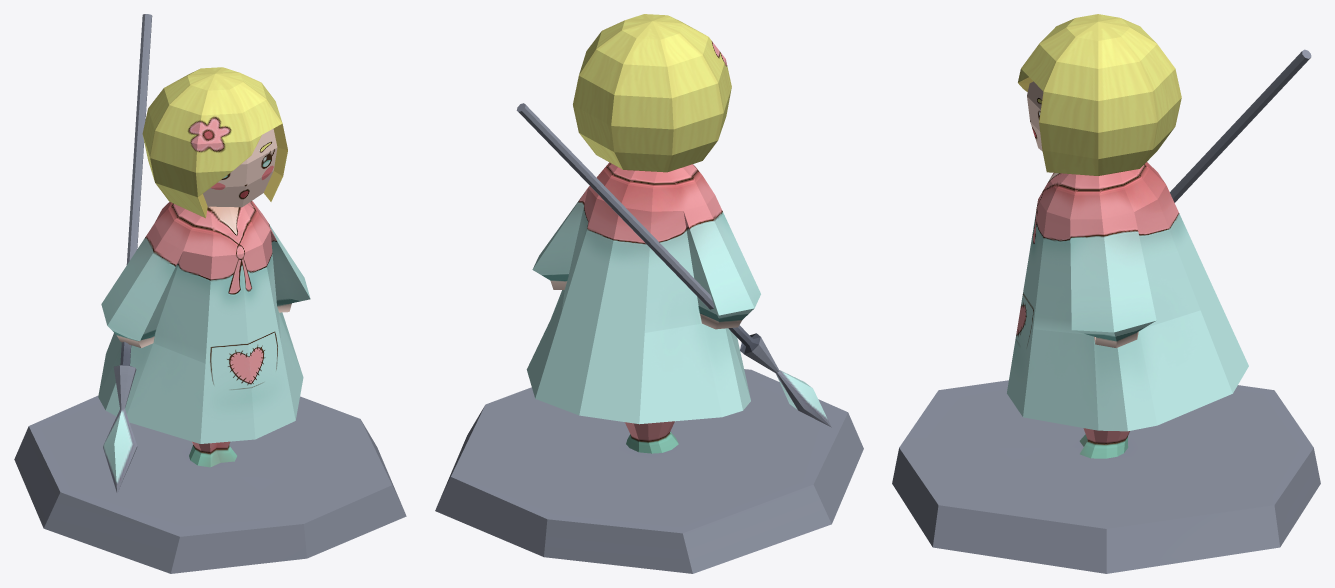
File: Pawn_01.fbx
3 renders of one model, left to right at view 1: azimuth 30°, elevation 25°; view 2: azimuth 150°, elevation 25°; view 3: azimuth 270°, elevation 25°, orthographic. The views are drawn at different scales.
Visible parts, largest first — view 1: Doll_Body, Doll_Stand; view 2: Doll_Body, Doll_Stand; view 3: Doll_Body, Doll_Stand.
Boxes of the visible parts, x1,y1,x2,y2 form: Doll_Body: (98, 14, 310, 493); Doll_Stand: (14, 395, 406, 573); Doll_Body: (516, 14, 831, 453); Doll_Stand: (435, 369, 863, 573); Doll_Body: (1007, 14, 1311, 458); Doll_Stand: (892, 380, 1320, 573).
Size of the model in its own units: 0.3269 by 0.39 by 0.3278.
